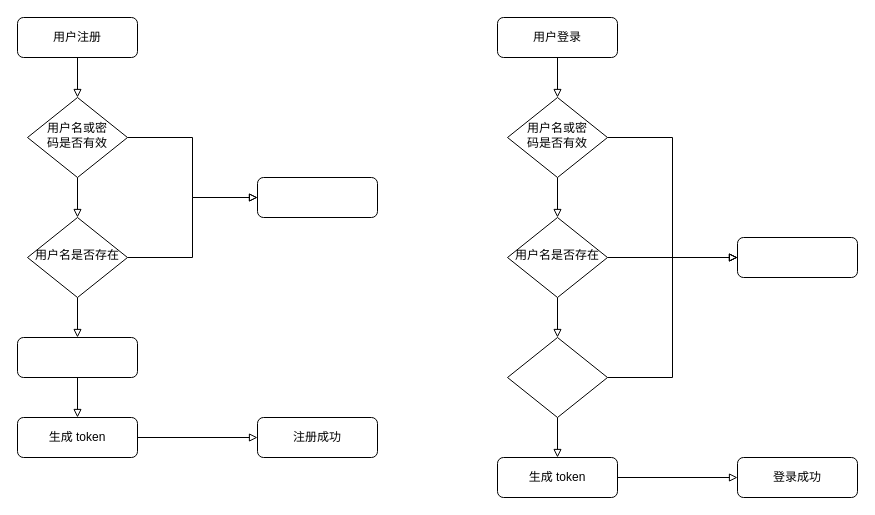
The diagram is 875 pixels wide and 515 high, and some of its shapes have lost their labels. Each missing label, with the centre of its shape:
AES加密密码: the point at 77,357
密码是否正确: the point at 557,377
注册失败: the point at 317,197
登录失败: the point at 797,257
